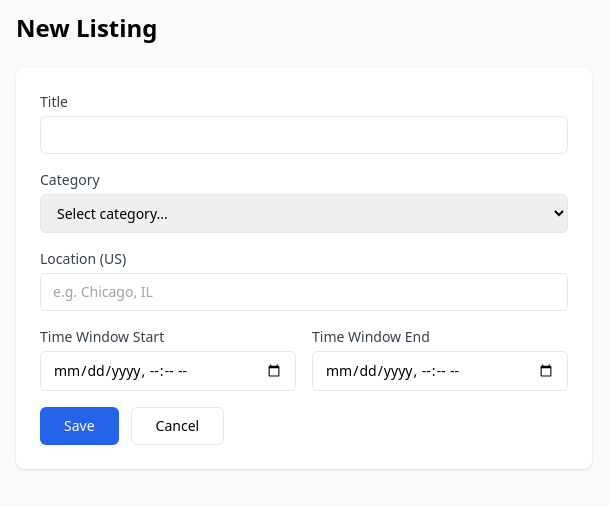
Test: ListingFormPage › location field shows validation error for short input
Type "Lost item" into the field with test id "title-input".
click(304, 135); type("Lost item")  # box [40,116,568,154]
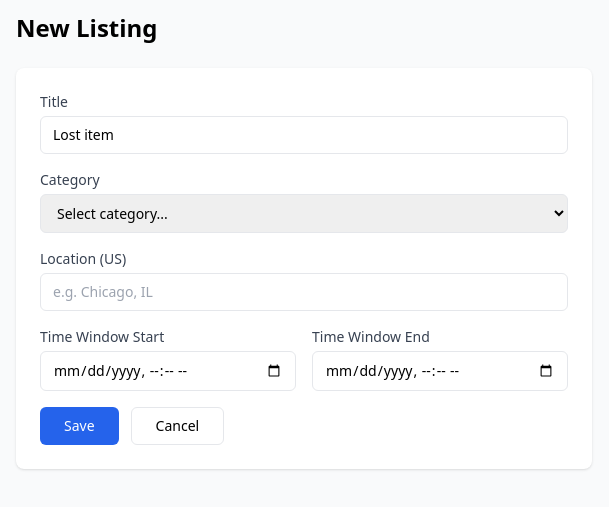
Select "Electronics" in the dropdown with test id "category-select" at (304, 214), box [40,194,568,233]
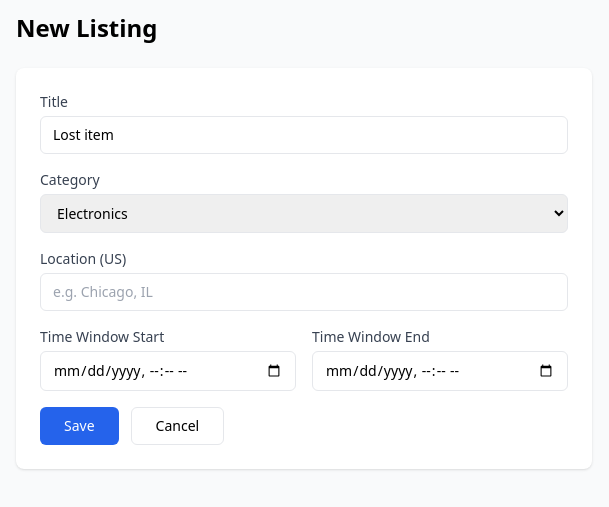
Type "A" into the field with test id "location-input".
click(304, 292); type("A")  # box [40,273,568,311]
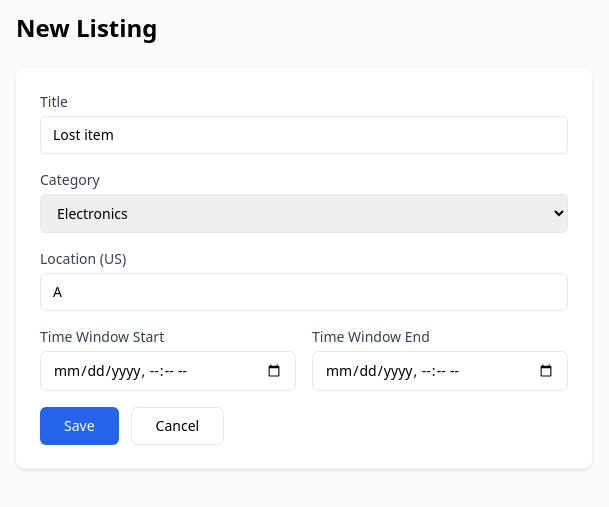
Submit the form with test id "title-input"
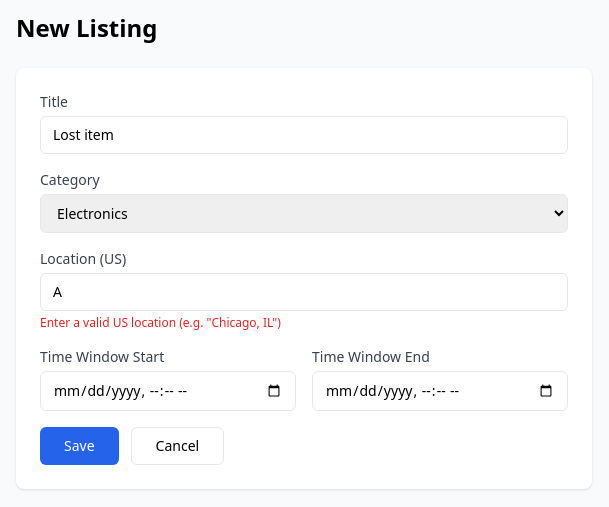
Check: the text "Enter a valid US location (e.g. \"Chicago, IL\")" is shown, box [40,314,281,331]
